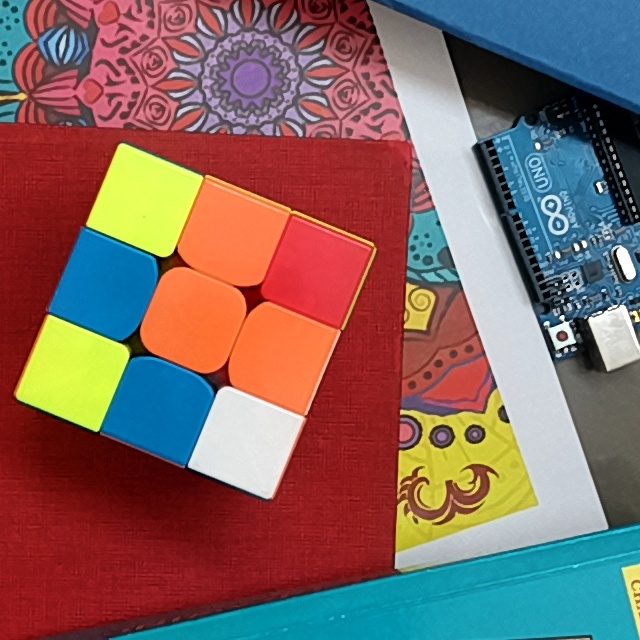tile: (158, 287, 227, 355), (123, 376, 195, 439), (198, 202, 266, 267), (247, 322, 315, 387), (212, 411, 277, 476), (76, 254, 140, 320), (284, 239, 346, 306), (113, 169, 178, 232), (40, 343, 105, 405)
